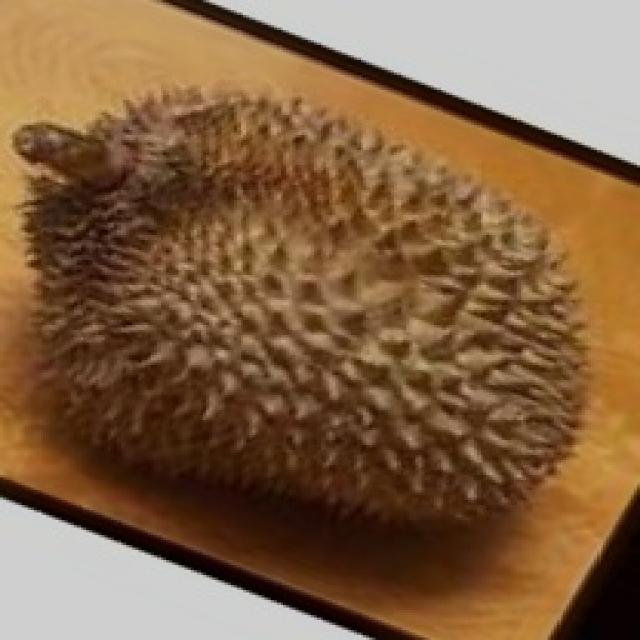fruit: (280, 187, 640, 605), (3, 210, 357, 568)
